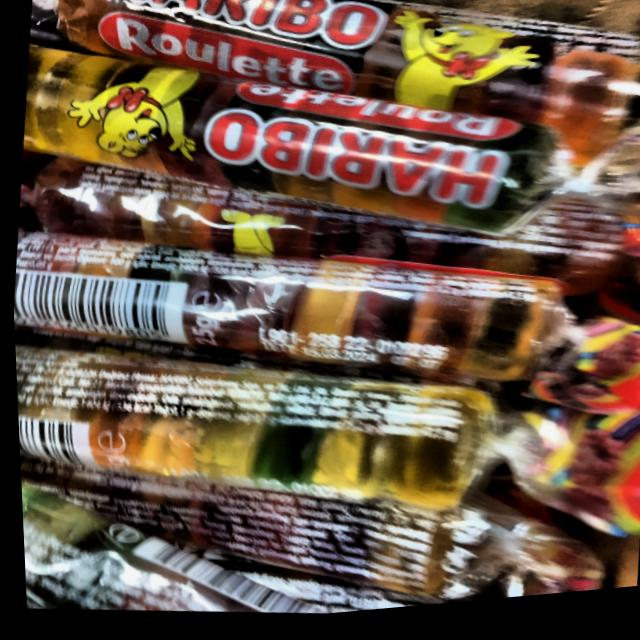Plastic: (13, 222, 576, 413), (12, 335, 535, 531), (58, 0, 640, 176)
